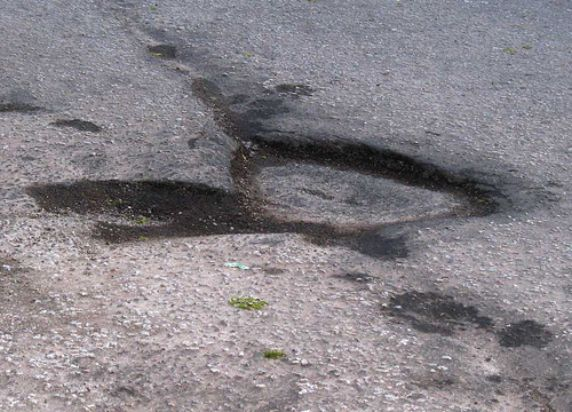pothole: (19, 128, 514, 265), (377, 283, 552, 363)
